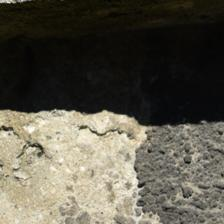Crack: (62, 61, 95, 162)
